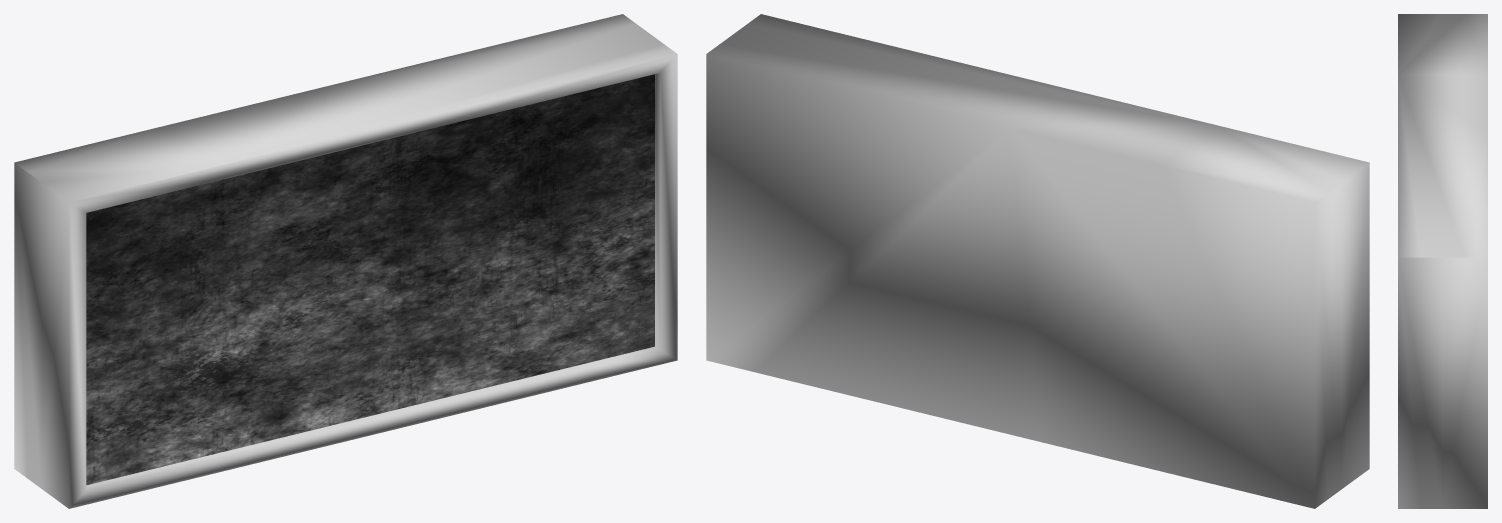
Rendered from Kidde_ExitSign.fbx.
The picture shows the model from 3 angles, left to right: view 1: azimuth 30°, elevation 25°; view 2: azimuth 150°, elevation 25°; view 3: azimuth 270°, elevation 25°; orthographic projection. The views are drawn at different scales.
Parts seen in each view (by area): view 1: Cube_4_8, Cube_0_4; view 2: Cube_0_4; view 3: Cube_0_4.
Boxes of the visible parts, x1,y1,x2,y2 form: Cube_4_8: (86, 74, 654, 485); Cube_0_4: (14, 14, 677, 508); Cube_0_4: (706, 14, 1369, 508); Cube_0_4: (1398, 14, 1487, 508).
Bounding box in the file's own units: 1317 × 665 × 205.
5 materials, 3 textured.
